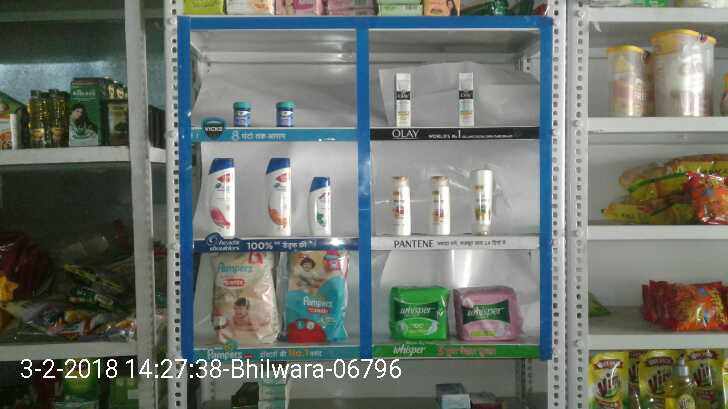vicks: (227, 98, 257, 130), (272, 95, 299, 130)
